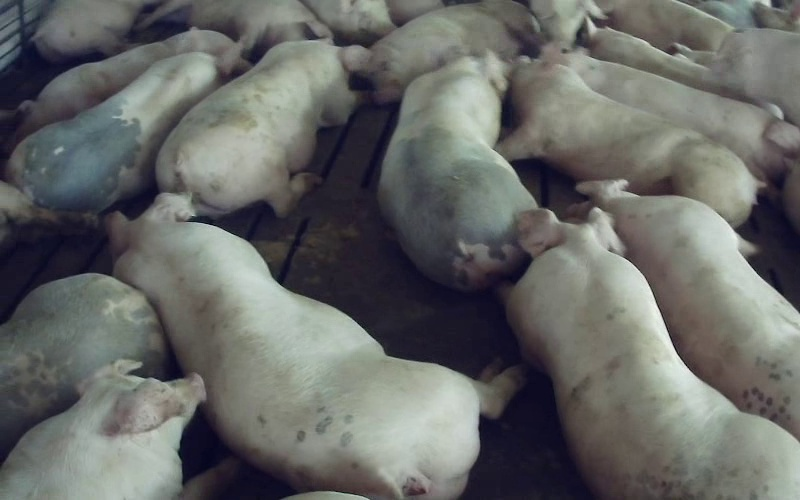pig: (109, 194, 523, 499), (506, 208, 799, 499), (568, 180, 799, 439), (497, 61, 756, 225), (378, 52, 536, 290), (156, 40, 369, 215), (0, 273, 170, 459), (0, 360, 205, 499), (367, 0, 541, 102), (16, 36, 177, 139), (136, 0, 332, 60), (32, 0, 143, 62)
